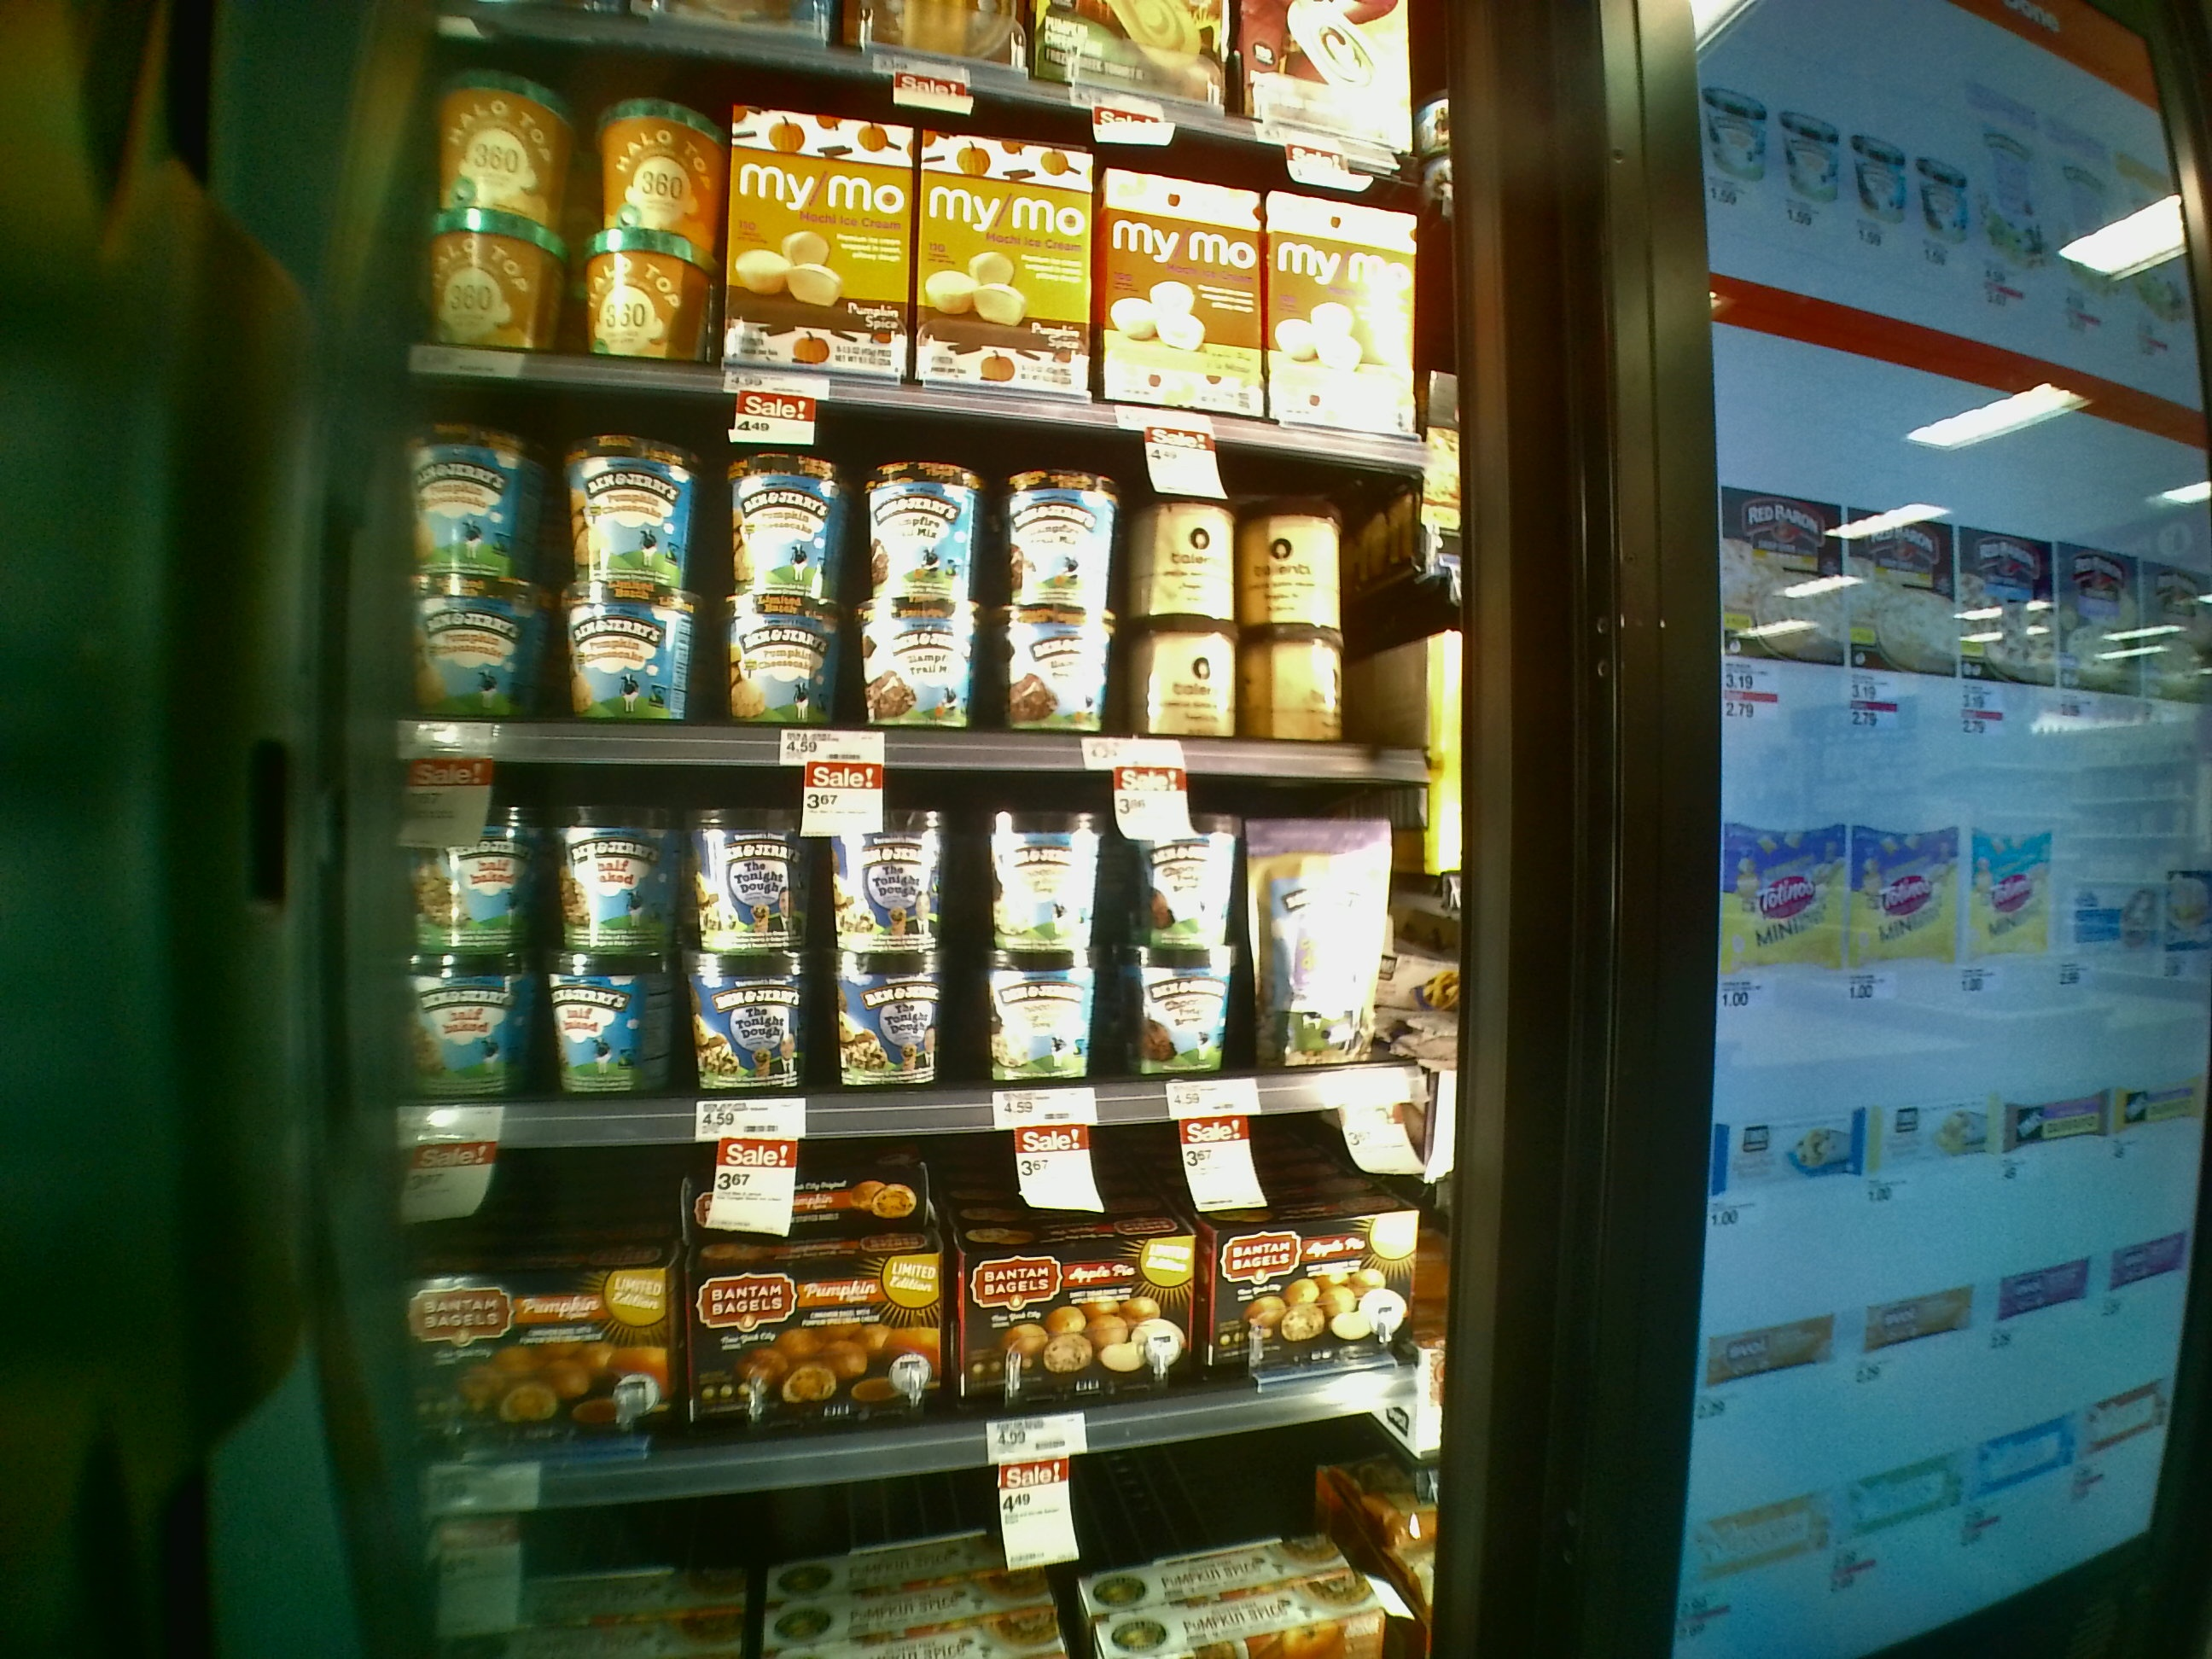shelf: (364, 354, 1433, 781), (338, 721, 1449, 1122), (333, 1110, 1442, 1474)
